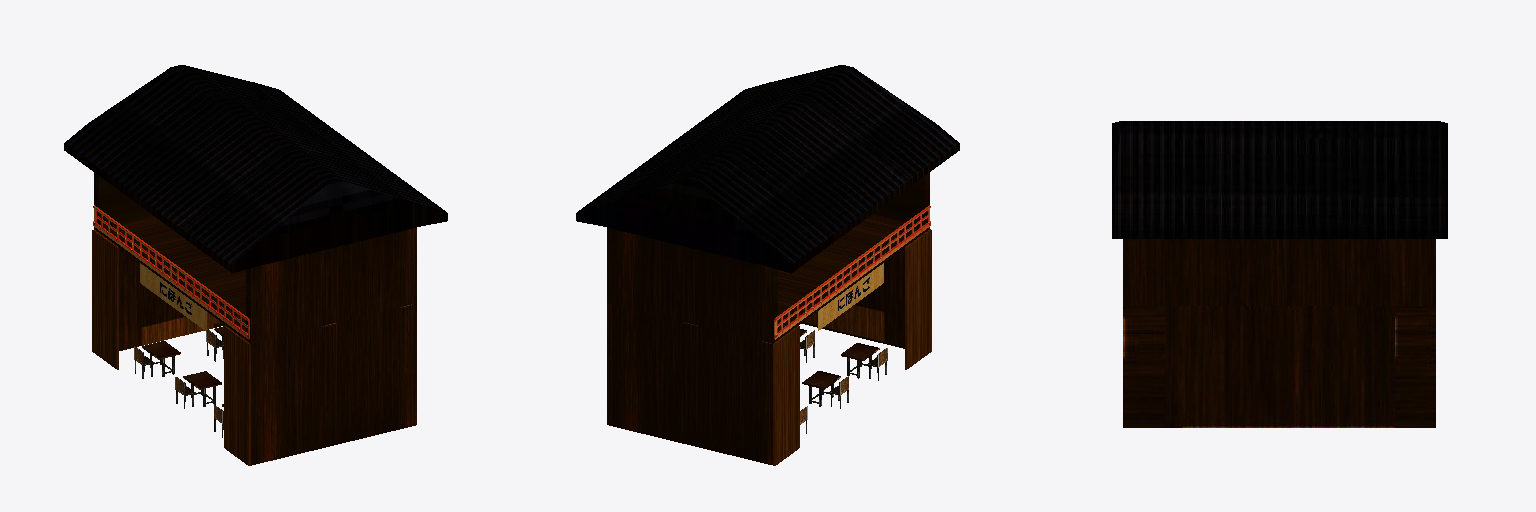
The picture shows the model from 3 angles: view 1: azimuth 30°, elevation 25°; view 2: azimuth 150°, elevation 25°; view 3: azimuth 270°, elevation 25°; orthographic projection.
Size of the model in its own units: 5.21 by 6.12 by 7.05.
1 materials, 1 textured.